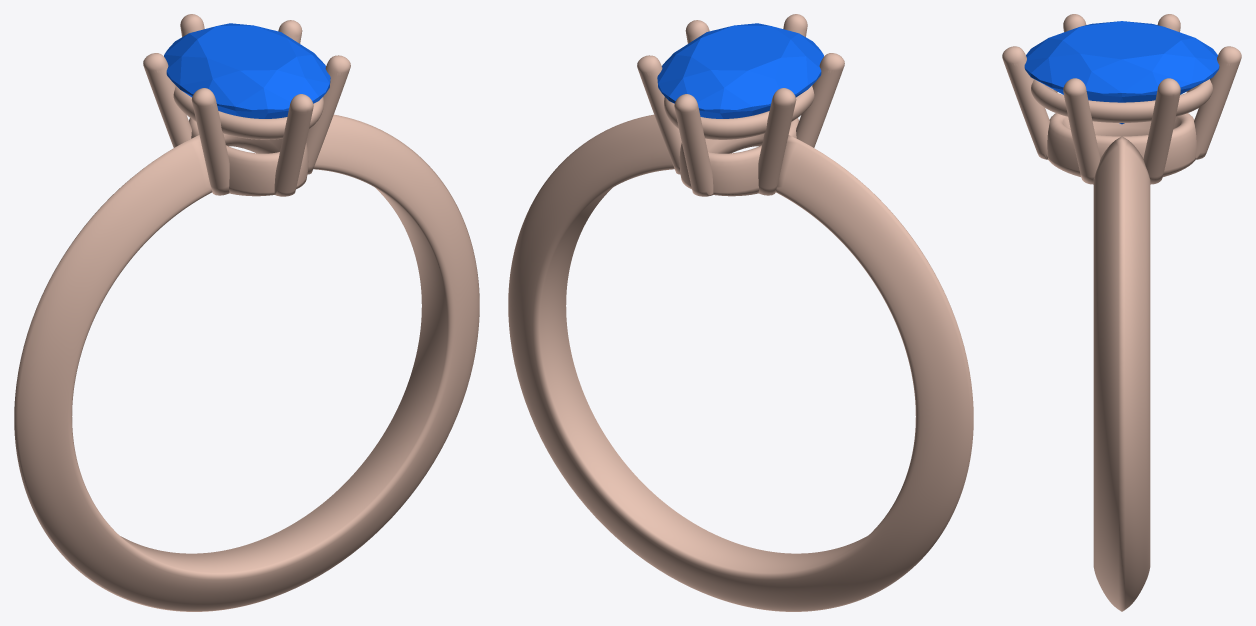
Rendered from bluesapphire-oval-rosegold-6prong-knifeedge-nosidestones.glb.
The picture shows the model from 3 angles, left to right: view 1: azimuth 30°, elevation 25°; view 2: azimuth 150°, elevation 25°; view 3: azimuth 270°, elevation 25°; orthographic projection.
Visible parts, largest first — view 1: metal, stone; view 2: metal, stone; view 3: metal, stone.
Part boxes in pixels (<box>): metal: <box>14,14,479,611</box>; stone: <box>164,23,330,118</box>; metal: <box>508,14,973,611</box>; stone: <box>657,23,823,118</box>; metal: <box>1002,14,1241,611</box>; stone: <box>1024,21,1219,124</box>.
Size of the model in its own units: 20.45 by 23.4 by 9.29.
